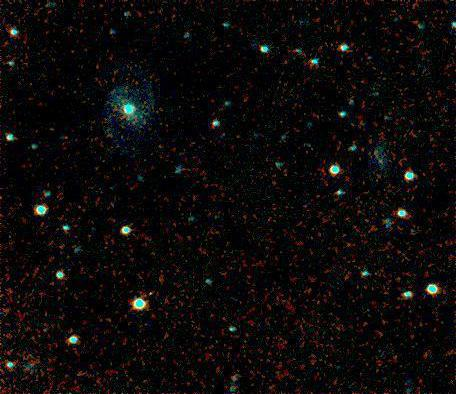star: (136, 275, 166, 305)
